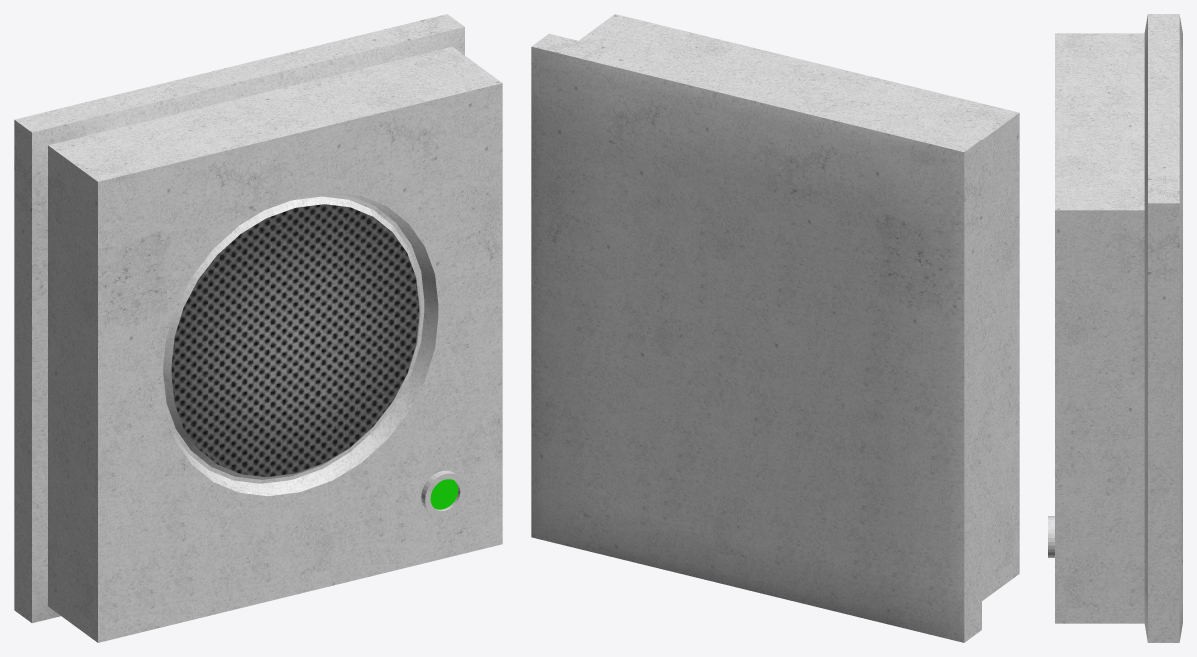
The model's file is Speaker.glb.
3 renders of one model, left to right at view 1: azimuth 30°, elevation 25°; view 2: azimuth 150°, elevation 25°; view 3: azimuth 270°, elevation 25°, orthographic. The views are drawn at different scales.
Visible parts, largest first — view 1: Object_20, Object_22, Object_18, Object_14; view 2: Object_18, Object_20; view 3: Object_20, Object_18, Object_14.
Boxes of the visible parts, x1,y1,x2,y2 form: Object_20: [48, 46, 502, 642]; Object_22: [171, 204, 419, 477]; Object_18: [14, 14, 464, 623]; Object_14: [421, 470, 465, 516]; Object_18: [531, 33, 981, 642]; Object_20: [578, 14, 1019, 600]; Object_20: [1055, 33, 1144, 623]; Object_18: [1144, 14, 1182, 642]; Object_14: [1048, 516, 1054, 557].
Bounding box in the file's own units: 0.5021 × 0.5438 × 0.1512.
Materials: 3 (2 with a texture image).
